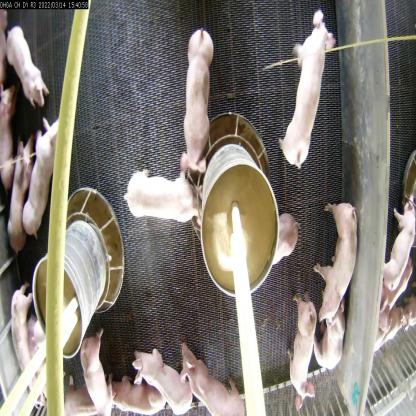Pig: (281, 7, 338, 177), (176, 24, 223, 181), (20, 110, 67, 242), (317, 192, 358, 338), (3, 23, 58, 123), (179, 336, 247, 415), (133, 342, 197, 415), (126, 167, 200, 229), (289, 284, 323, 413), (5, 131, 35, 274), (320, 302, 352, 394), (77, 331, 112, 415), (106, 373, 169, 415), (259, 209, 304, 267), (10, 282, 34, 380)
